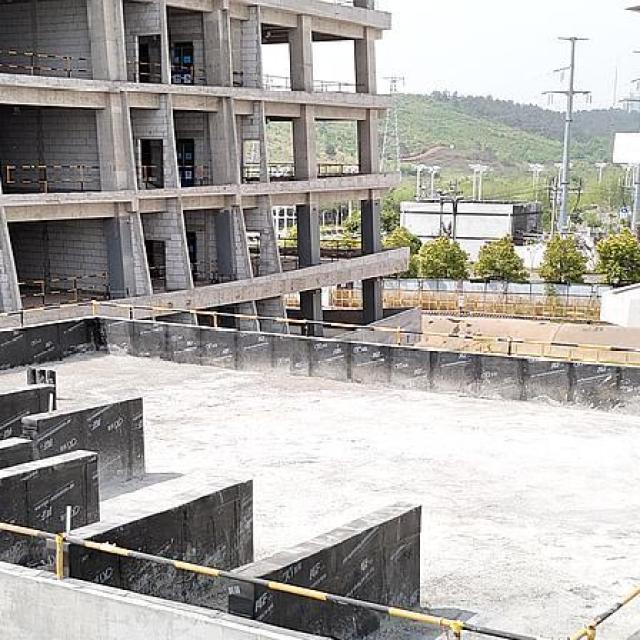edge_guardrail: (0, 523, 640, 640), (0, 298, 640, 356), (17, 273, 112, 306), (0, 164, 101, 194), (0, 49, 91, 77), (320, 239, 363, 258), (136, 164, 163, 189), (313, 79, 348, 94), (261, 74, 290, 90), (268, 162, 295, 179), (191, 260, 219, 276), (178, 165, 209, 179), (317, 164, 359, 174), (150, 266, 166, 290), (138, 62, 162, 77), (242, 165, 262, 182), (170, 66, 193, 80), (282, 258, 298, 272), (278, 238, 298, 249)
